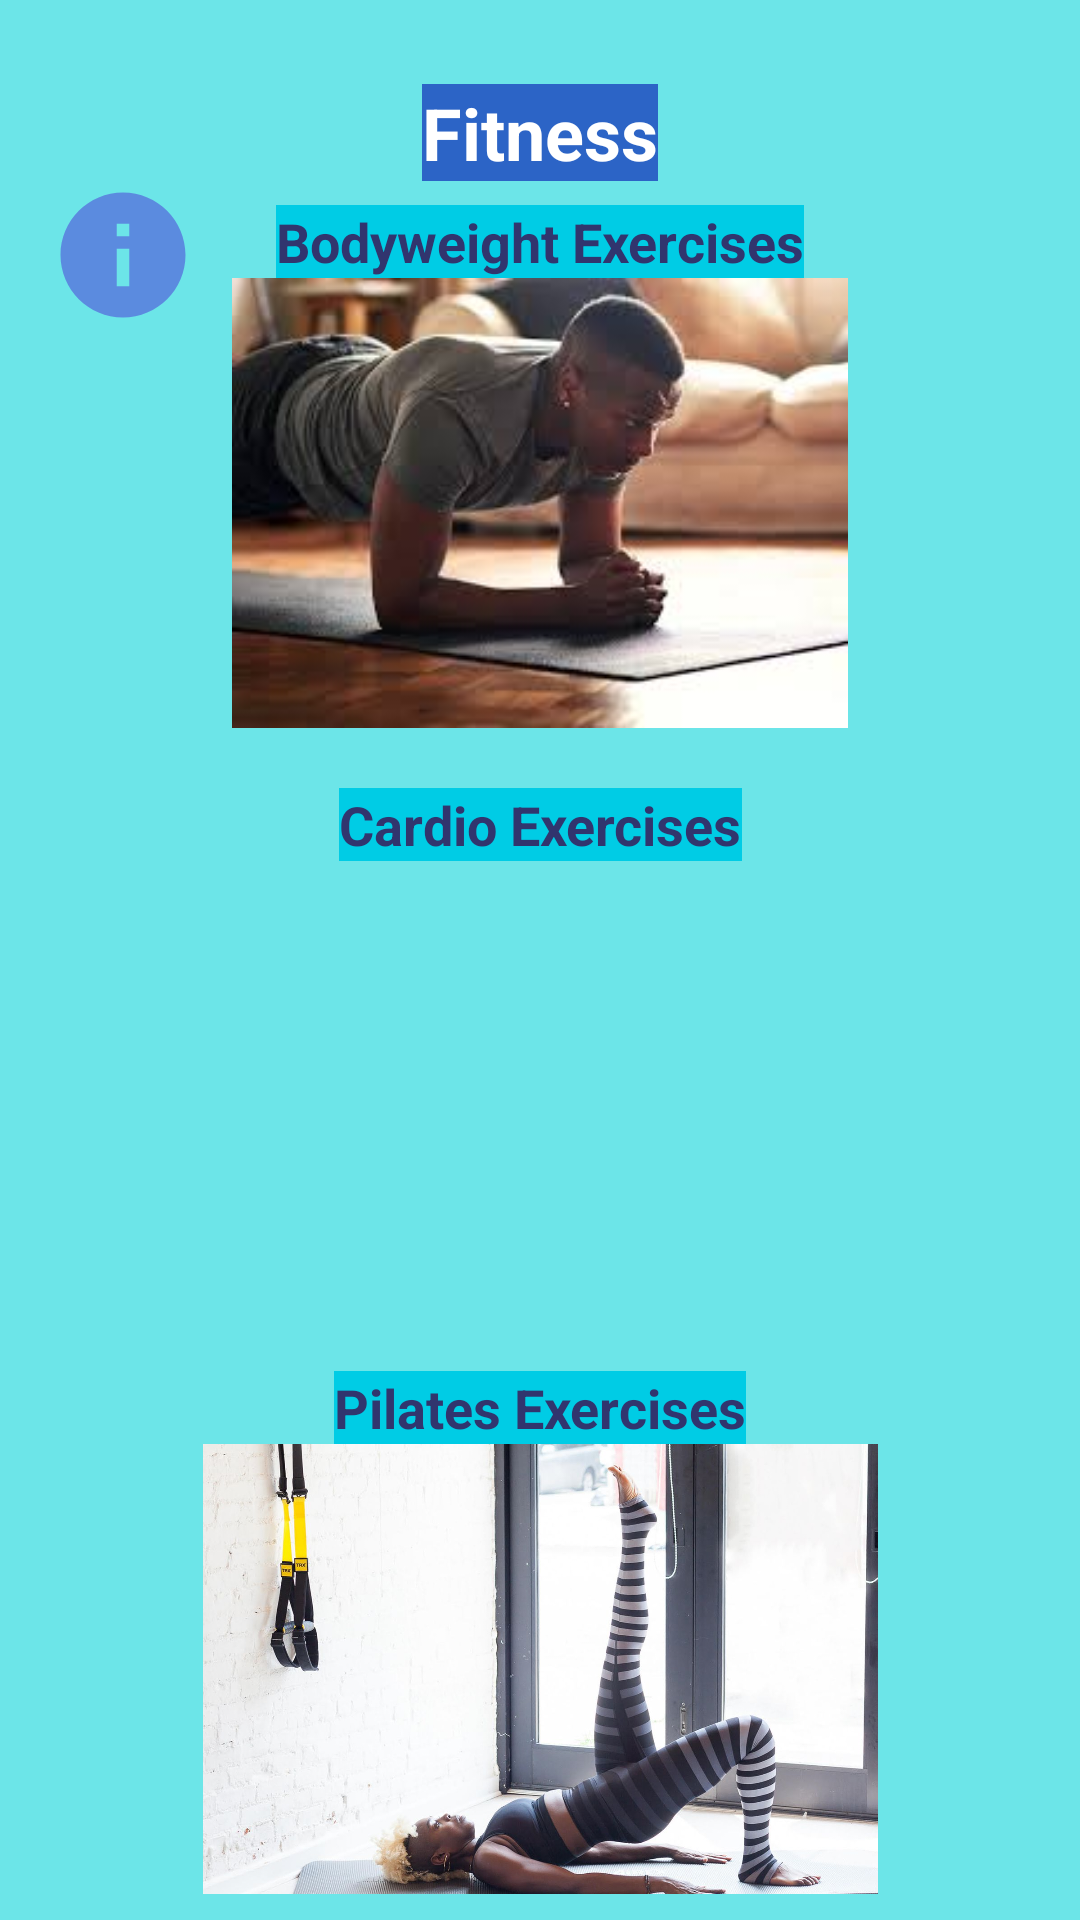

Named icons in this screenshot (1080 × 1920) and their centers, [x,y]:
fitnessinfo: [123,255]
